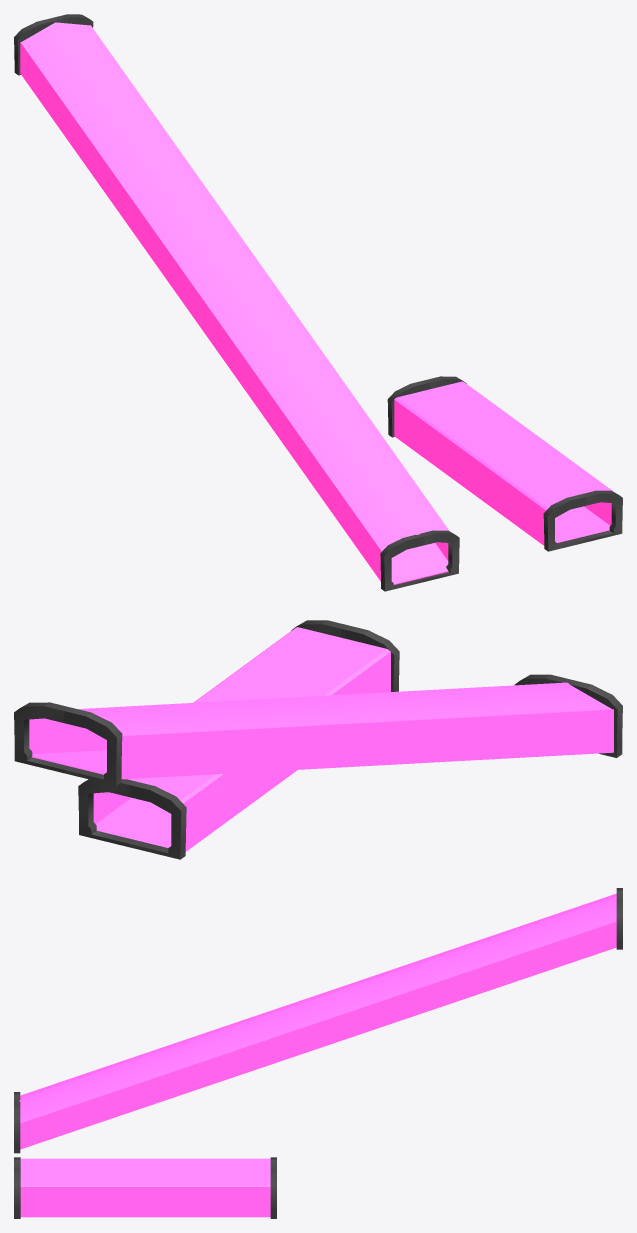
The model's file is Additions03.fbx.
3 renders of one model, top to bottom at view 1: azimuth 30°, elevation 25°; view 2: azimuth 150°, elevation 25°; view 3: azimuth 270°, elevation 25°, orthographic. The views are drawn at different scales.
Visible parts, largest first — view 1: GlassDeck001, GlassDeck, 1WindowOriginal002, 1WindowOriginal004, 1WindowOriginal005, 1WindowOriginal003; view 2: GlassDeck001, GlassDeck, 1WindowOriginal005, 1WindowOriginal003, 1WindowOriginal002, 1WindowOriginal004; view 3: GlassDeck001, GlassDeck.
Part boxes in pixels (left/top/right/bottom): GlassDeck001: left=20, top=22, right=449, bottom=584; GlassDeck: left=394, top=381, right=614, bottom=545; 1WindowOriginal002: left=543, top=490, right=622, bottom=551; 1WindowOriginal004: left=380, top=530, right=459, bottom=591; 1WindowOriginal005: left=14, top=14, right=93, bottom=75; 1WindowOriginal003: left=387, top=376, right=466, bottom=437; GlassDeck001: left=29, top=682, right=613, bottom=779; GlassDeck: left=93, top=627, right=390, bottom=851; 1WindowOriginal005: left=14, top=702, right=122, bottom=785; 1WindowOriginal003: left=78, top=779, right=186, bottom=859; 1WindowOriginal002: left=291, top=620, right=399, bottom=691; 1WindowOriginal004: left=514, top=674, right=622, bottom=757; GlassDeck001: left=19, top=893, right=616, bottom=1149; GlassDeck: left=20, top=1158, right=270, bottom=1217.
Size of the model in its own units: 696 by 817 by 1870.
Materials: 2 (1 with a texture image).
